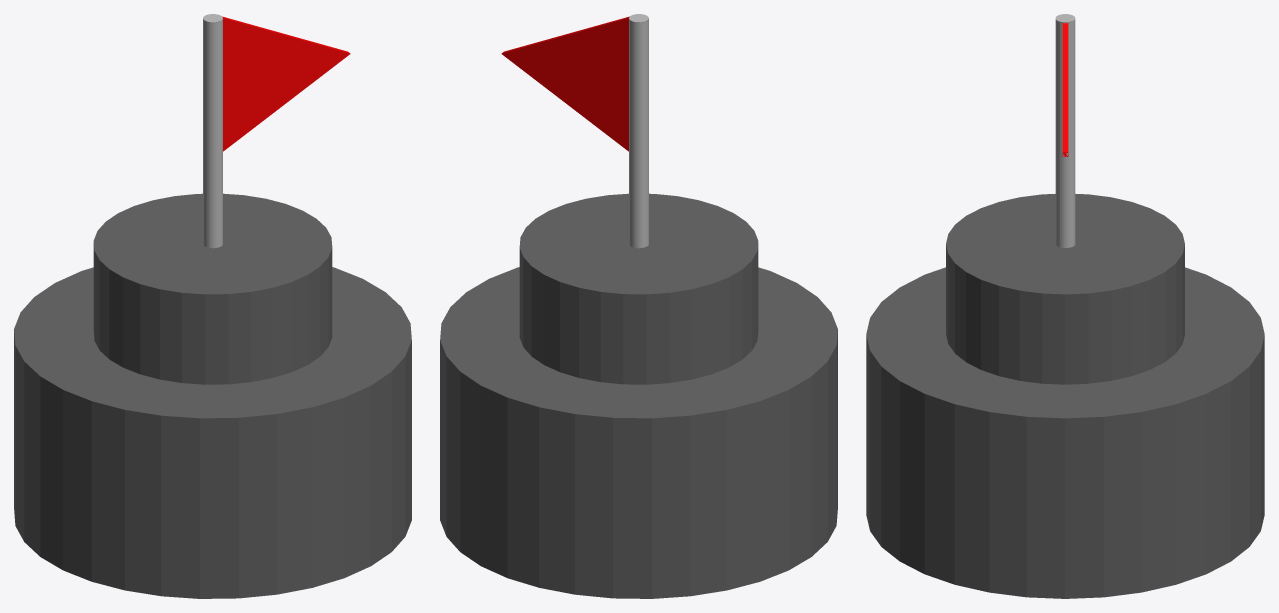
File: castle.gltf
3 views of the same model, side by side, from view 1: azimuth 30°, elevation 25°; view 2: azimuth 150°, elevation 25°; view 3: azimuth 270°, elevation 25° (orthographic).
Parts seen in each view (by area): view 1: 円柱; view 2: 円柱; view 3: 円柱.
Part boxes in pixels (bbox=[...]): 円柱: bbox=[14, 14, 411, 598]; 円柱: bbox=[440, 14, 837, 598]; 円柱: bbox=[866, 14, 1264, 598].
Bounding box in the file's own units: 4 × 5.5 × 4.
